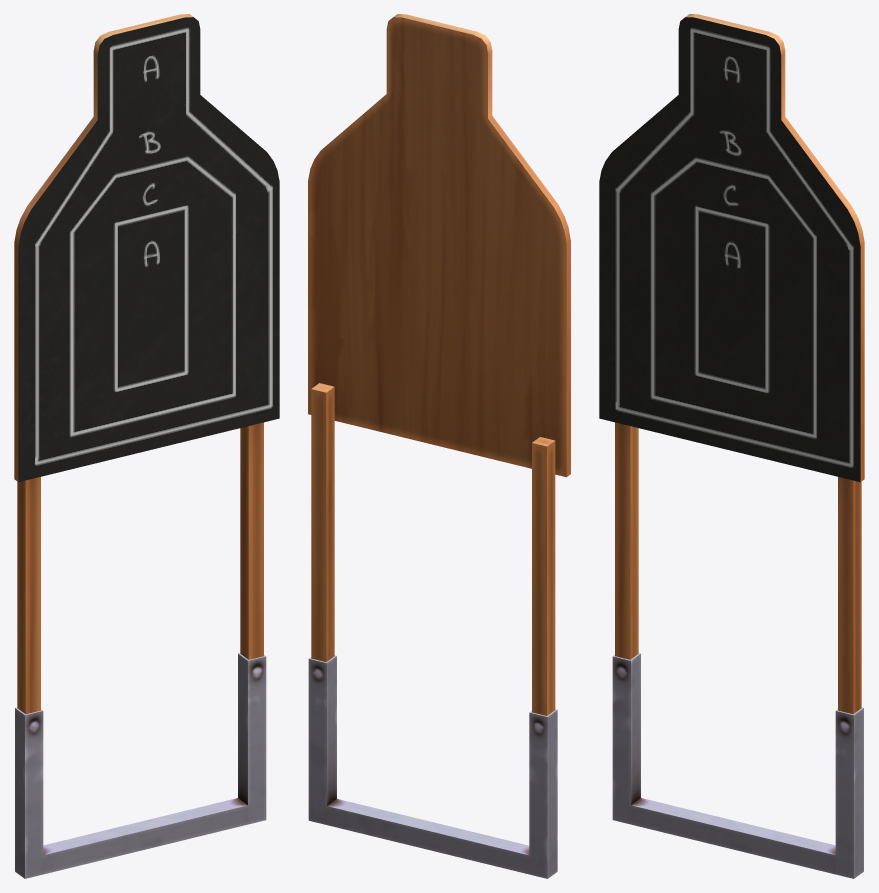
The model's file is Target01_5.FBX.
3 renders of one model, left to right at view 1: azimuth 30°, elevation 25°; view 2: azimuth 150°, elevation 25°; view 3: azimuth 330°, elevation 25°, orthographic.
Visible parts, largest first — view 1: Target01_5; view 2: Target01_5; view 3: Target01_5.
Part boxes in pixels (x1,y1,x2,y2): Target01_5: (14,14,279,878); Target01_5: (308,14,570,878); Target01_5: (599,14,864,878).
Size of what is drawn, in the model's own units: 0.6136 by 1.85 by 0.055.
